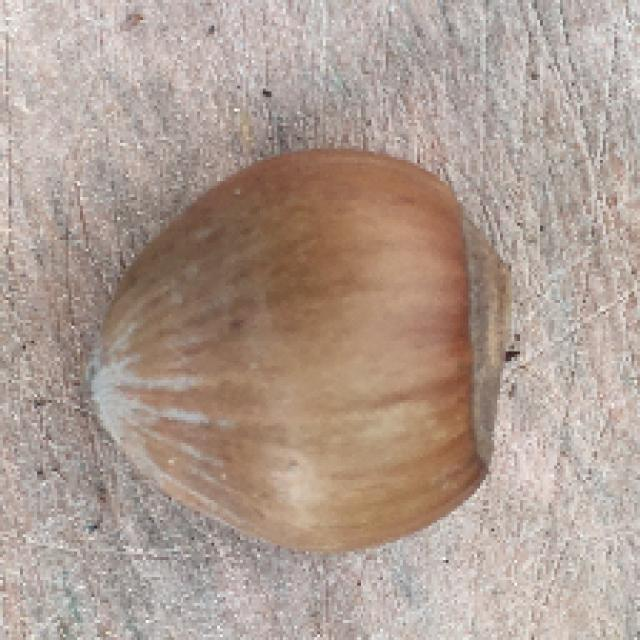qualityHazelnut: (74, 150, 516, 554)
